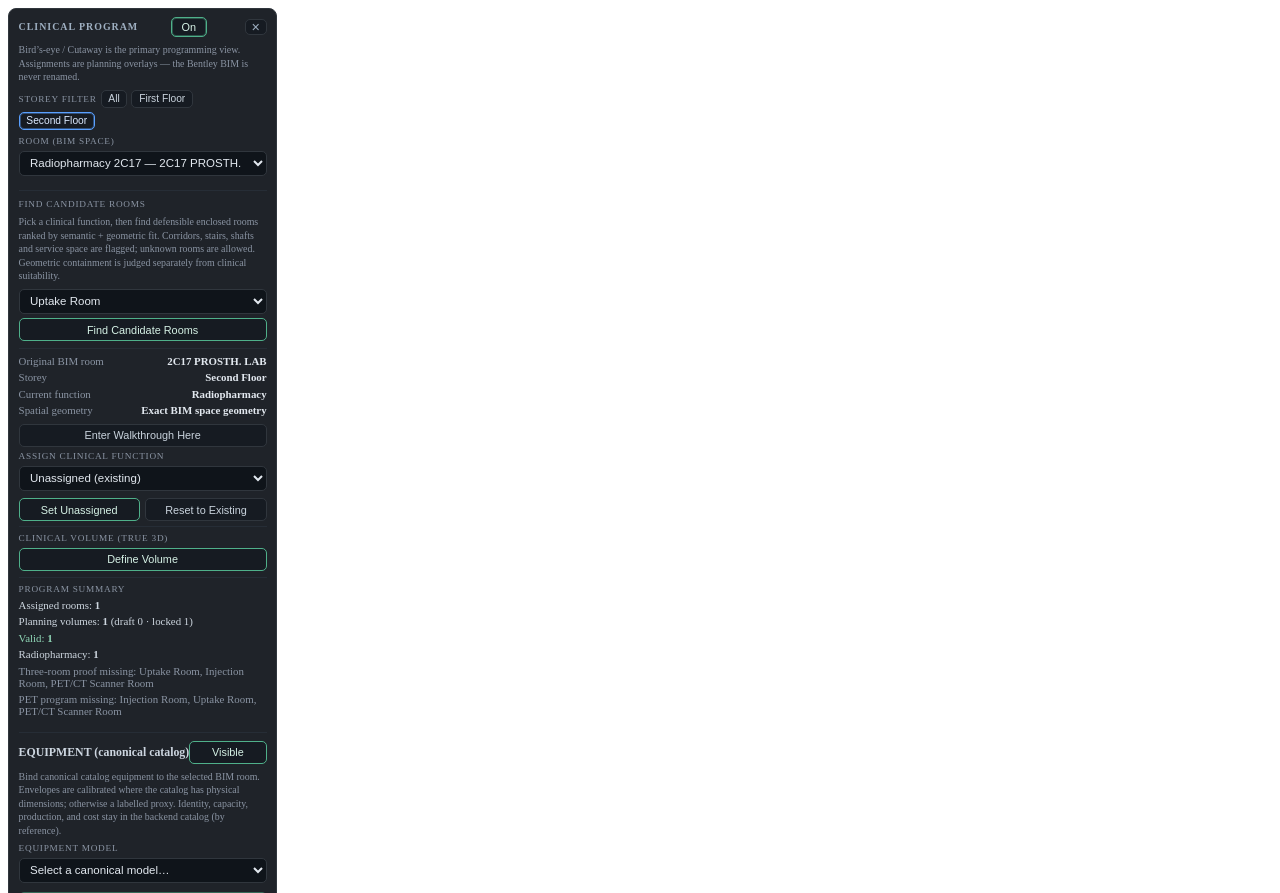
B1B-MA-03A §24 — reopening the collapsed panel preserves room + assignment + storey filter › explicit collapse control (×) is presentation-only and never clears the selection
The image size is (1280, 893).
Click the button with test id "clinical-program-collapse" at coordinates (256, 27), box [245,19,267,35]
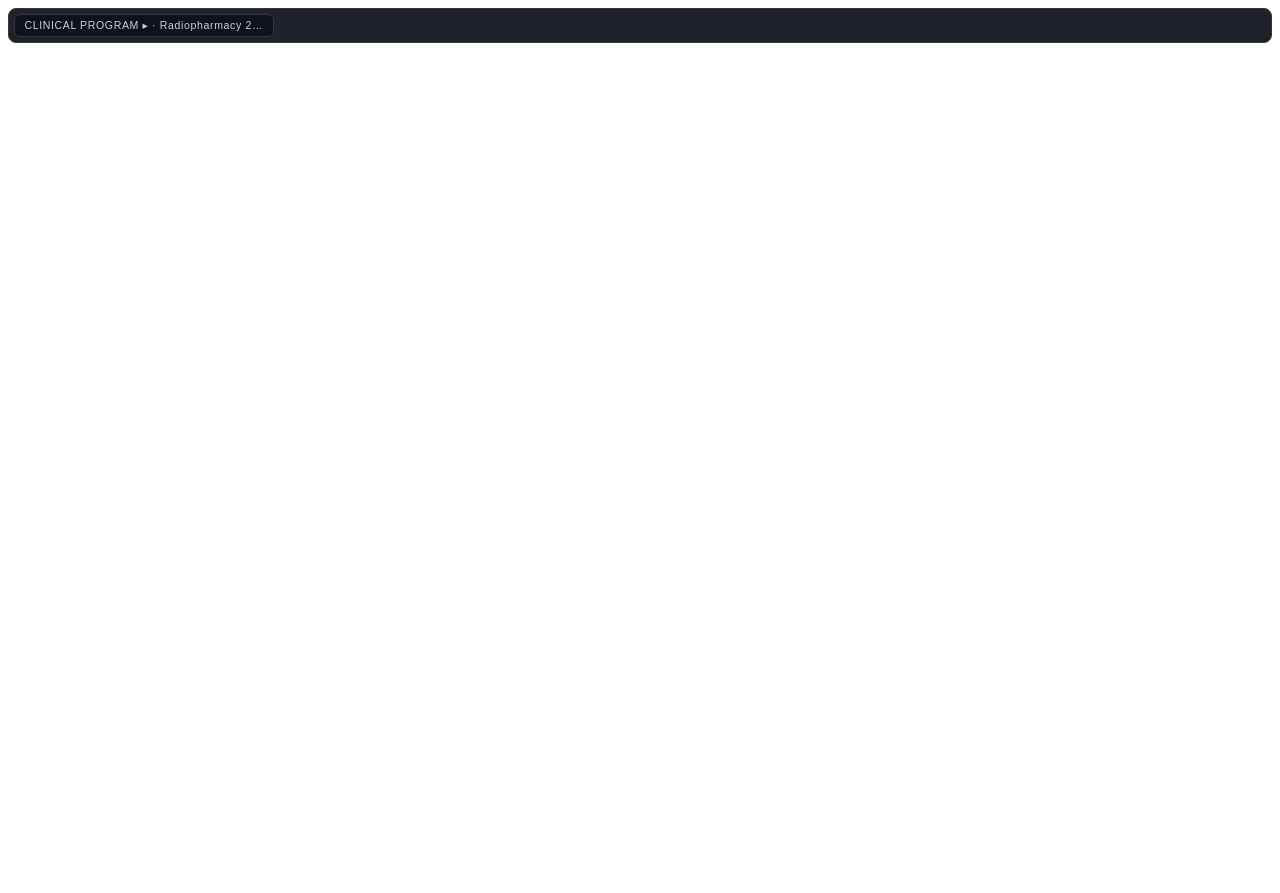
Now the button with test id "clinical-program-reopen" is shown, box [14,14,274,37]
